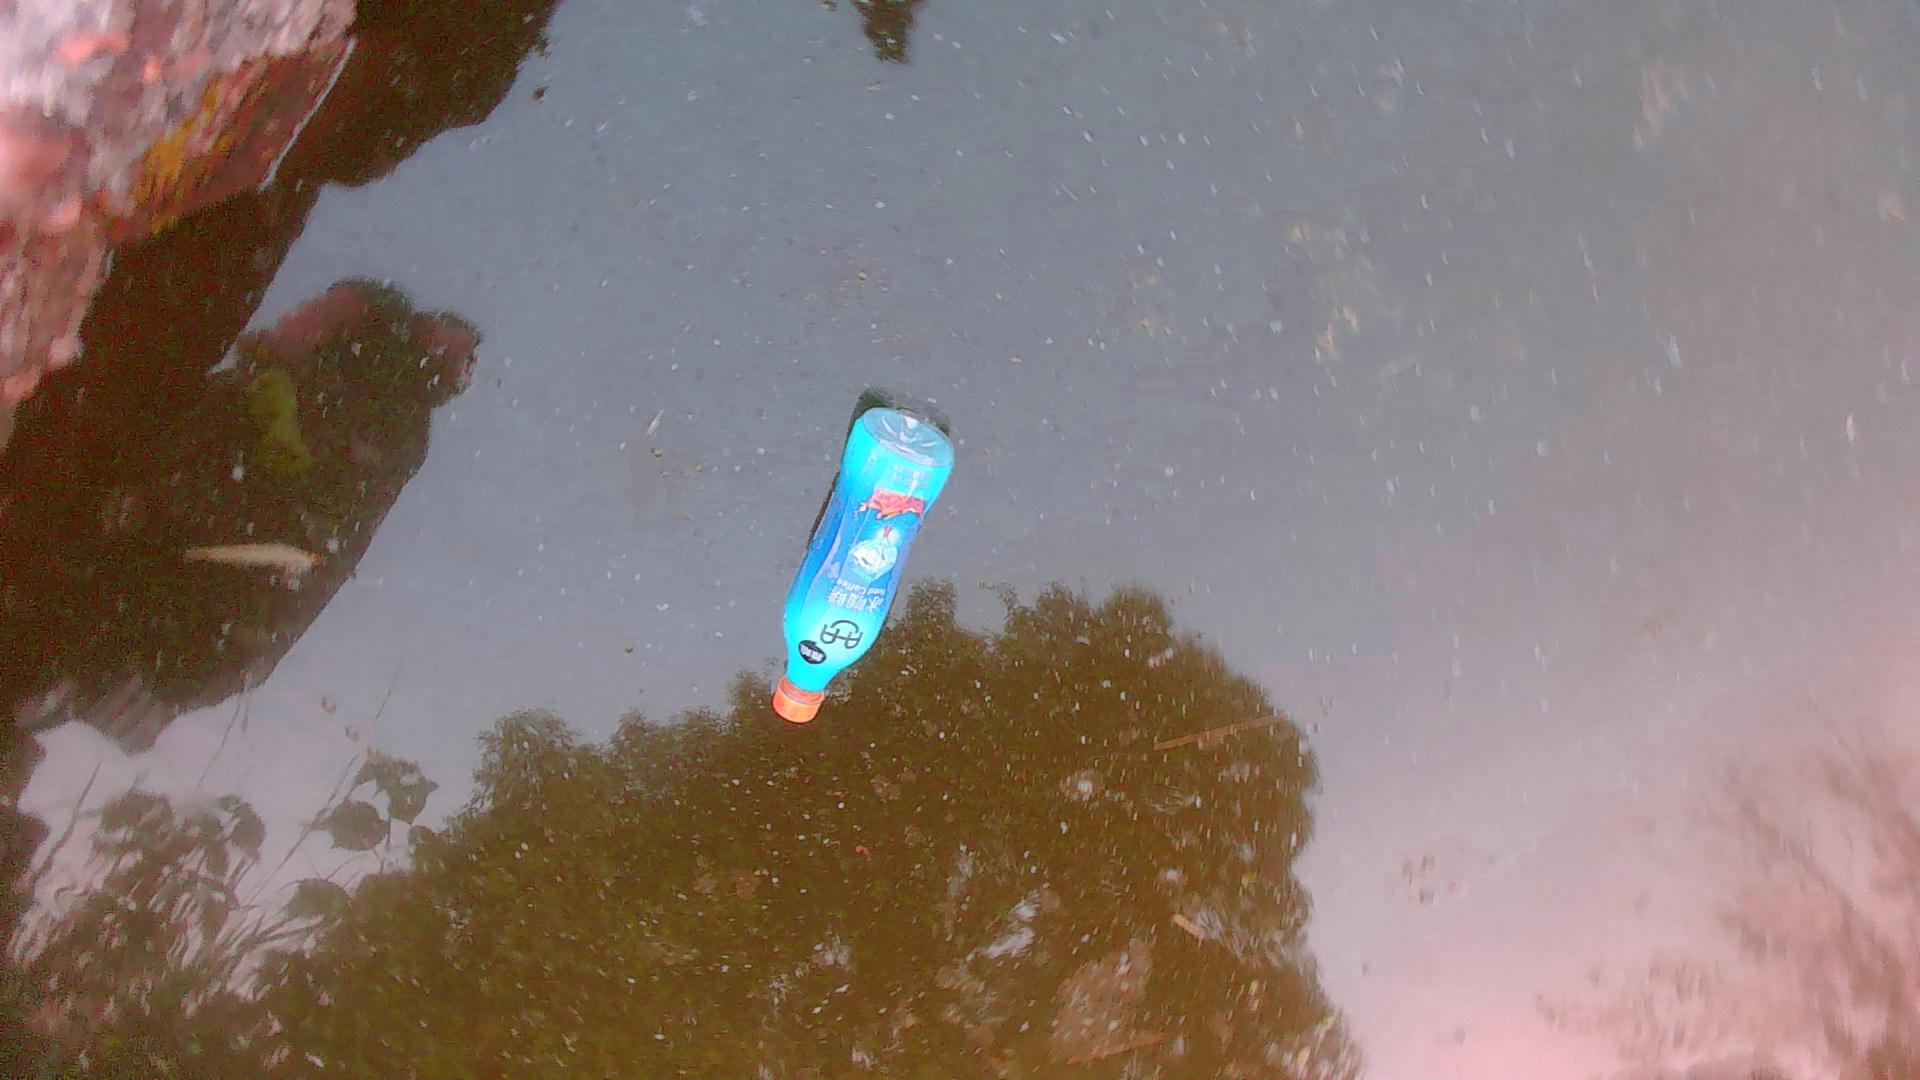Plastic: (766, 400, 960, 729)
